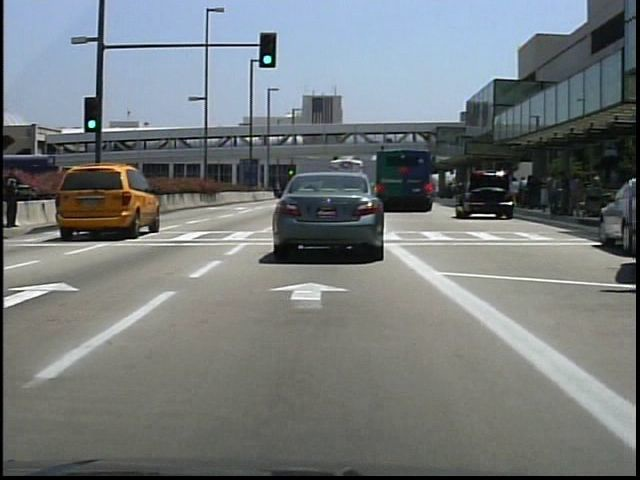person: (623, 151, 636, 296), (5, 163, 27, 227)
